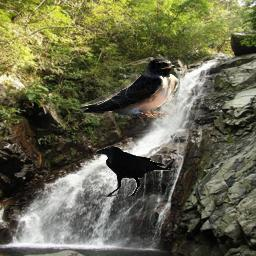Crow: (95, 146, 173, 198)
Swallow: (78, 58, 180, 118)
